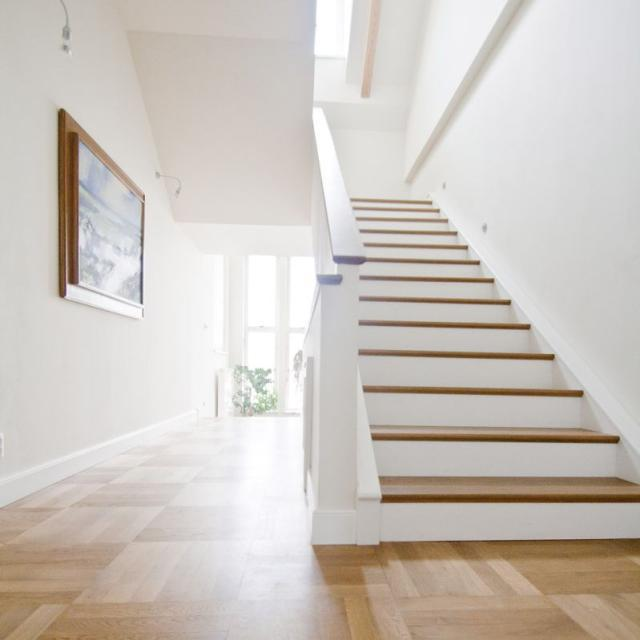stairs: (348, 193, 640, 542)
